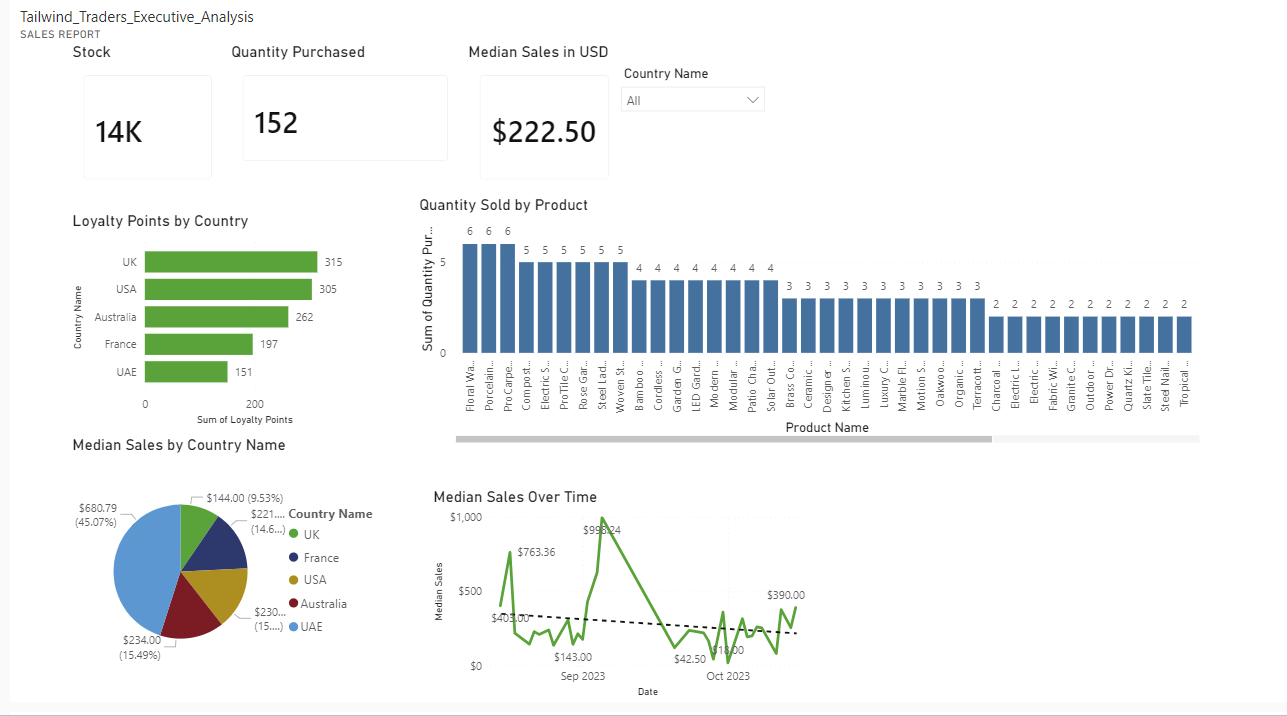

Layout of this report page (visuals, bound fields, positions):
{"tool":"powerbi","page":{"name":"Sales Report","canvas":[1280,720],"ordinal":0},"visuals":[{"type":"clusteredBarChart","title":"Loyalty Points by Country","fields":{"Category":["Sales in USD.Country Name"],"Y":["Sum(Sales in USD. Loyalty Points)"]},"box":[0,184.8,317,238.8],"z":0},{"type":"clusteredColumnChart","title":"Quantity Sold by Product","fields":{"Category":["Sales in USD.Product Name"],"Y":["Sum(Sales in USD.Quantity Purchased)"]},"box":[379.1,167.3,860.7,275.2],"z":1000},{"type":"pieChart","fields":{"Category":["Sales in USD.Country Name"],"Y":["Sales in USD.Median Sales"]},"box":[0,429,353.5,279.3],"z":2000},{"type":"lineChart","title":"Median Sales Over Time","fields":{"Category":["CalendarTable.Date"],"Y":["Sales in USD.Median Sales"]},"box":[393.9,485.7,429,234.7],"z":3000},{"type":"cardVisual","title":"Stock","fields":{"Data":["Sum(Sales in USD. Stock  )"]},"box":[0,0,174,167.3],"z":4000},{"type":"cardVisual","title":"Quantity Purchased","fields":{"Data":["Sum(Sales in USD.Quantity Purchased)"]},"box":[173.6,0,258,148],"z":5000},{"type":"cardVisual","title":"Median Sales in USD","fields":{"Data":["Sales in USD.Median Sales"]},"box":[431.7,0,175.4,167.3],"z":6000},{"type":"slicer","fields":{"Values":["Sales in USD.Country Name"]},"box":[593.6,20.2,176.7,147],"z":7000}]}

Visuals, with their boxes in screenshot pixels (x1, y1, x2, y2), scaled from the page's 1280x720 canvas onto the 1287x716 screenshot:
"Loyalty Points by Country" clusteredBarChart: l=0, t=184, r=319, b=421
"Quantity Sold by Product" clusteredColumnChart: l=381, t=166, r=1247, b=440
pieChart - Sales in USD.Country Name x Sales in USD.Median Sales: l=0, t=427, r=355, b=704
"Median Sales Over Time" lineChart: l=396, t=483, r=827, b=715
"Stock" cardVisual: l=0, t=0, r=175, b=166
"Quantity Purchased" cardVisual: l=175, t=0, r=434, b=147
"Median Sales in USD" cardVisual: l=434, t=0, r=610, b=166
slicer - Sales in USD.Country Name: l=597, t=20, r=775, b=166
